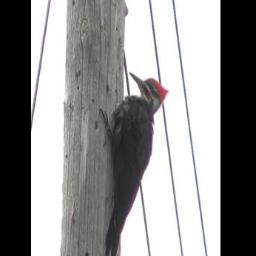Woodpecker: (98, 69, 170, 256)
